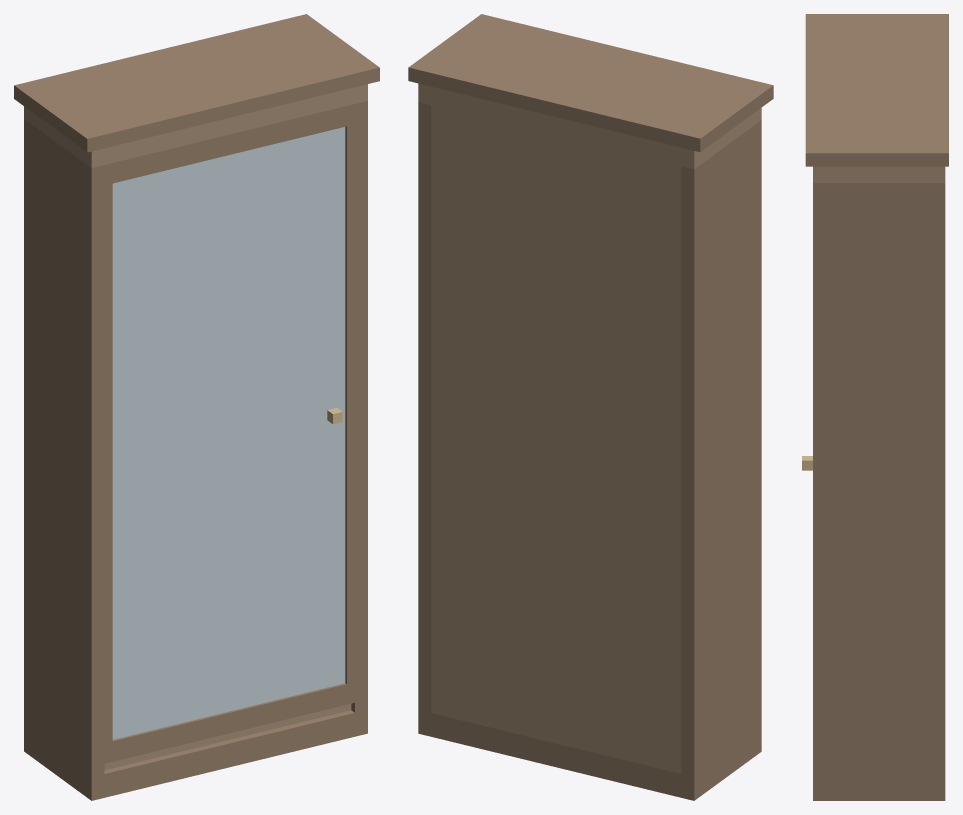
The model's file is curio-cabinet.gltf.
The picture shows the model from 3 angles, left to right: view 1: azimuth 30°, elevation 25°; view 2: azimuth 150°, elevation 25°; view 3: azimuth 270°, elevation 25°; orthographic projection. The views are drawn at different scales.
Parts seen in each view (by area): view 1: glass, side_l, crown, plinth, side_r, door_stile_l, door_stile_r, top, door_rail_b, door_rail_t, floor_bd; view 2: back, side_l, crown, side_r, plinth, top; view 3: side_r, crown, plinth, top.
Boxes of the visible parts, x1,y1,x2,y2 form: glass: [112, 127, 345, 739]; side_l: [24, 119, 104, 776]; crown: [14, 14, 379, 152]; plinth: [24, 710, 367, 800]; side_r: [351, 101, 367, 712]; door_stile_l: [99, 163, 112, 763]; door_stile_r: [345, 104, 359, 704]; top: [24, 84, 367, 167]; door_rail_b: [112, 683, 346, 761]; door_rail_t: [112, 106, 346, 183]; floor_bd: [104, 703, 351, 769]; back: [431, 105, 681, 773]; side_l: [681, 120, 761, 776]; crown: [408, 14, 773, 152]; side_r: [418, 102, 431, 712]; plinth: [418, 710, 761, 800]; top: [418, 83, 761, 169]; side_r: [813, 183, 945, 777]; crown: [805, 14, 948, 166]; plinth: [813, 777, 945, 800]; top: [813, 166, 945, 182].
Size of the model in its own units: 0.0562 by 0.1225 by 0.025.
